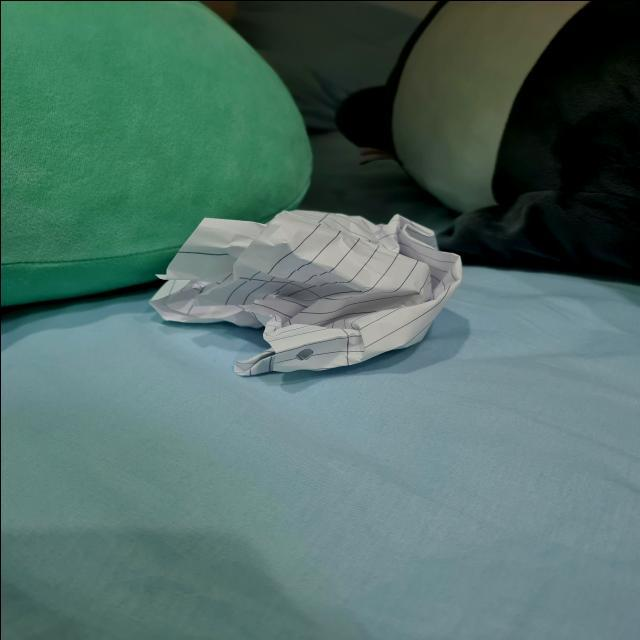Paper: (128, 182, 489, 406)
